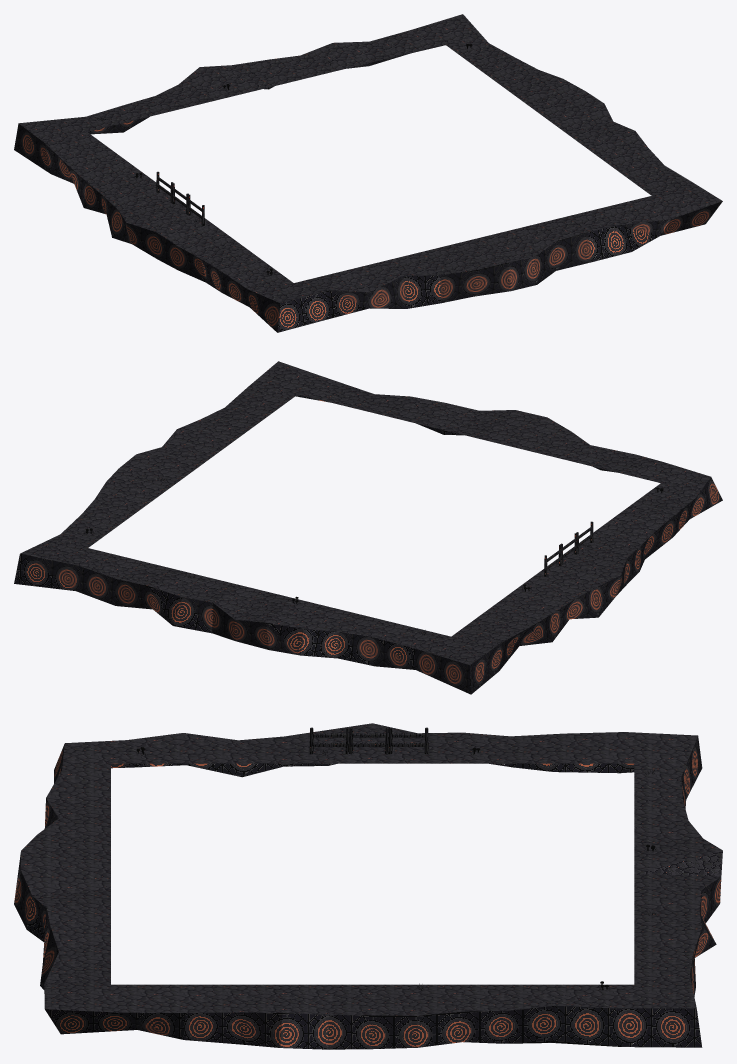
The model's file is entorno.fbx.
3 renders of one model, top to bottom at view 1: azimuth 30°, elevation 25°; view 2: azimuth 150°, elevation 25°; view 3: azimuth 270°, elevation 25°, orthographic. The views are drawn at different scales.
Visible parts, largest first — view 1: vulcao_entorno; view 2: vulcao_entorno; view 3: vulcao_entorno.
Part boxes in pixels (x1,y1,x2,y2): vulcao_entorno: [14, 14, 722, 332]; vulcao_entorno: [14, 361, 722, 694]; vulcao_entorno: [14, 723, 722, 1049].
Bounding box in the file's own units: 1631 × 169 × 1652.
7 materials, 5 textured.
